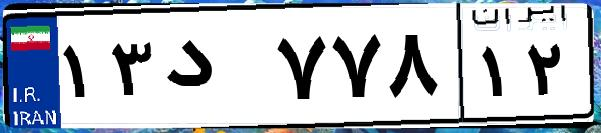1: (57, 26, 110, 100), (475, 38, 525, 113)
2: (525, 38, 570, 115)
3: (110, 28, 158, 98)
7: (270, 28, 330, 110), (330, 28, 385, 110)
8: (385, 28, 445, 110)
د: (158, 20, 270, 120)
